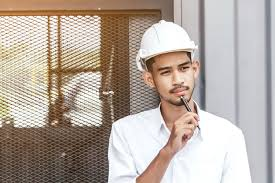Person_wearing_helmet: (129, 17, 202, 82)
